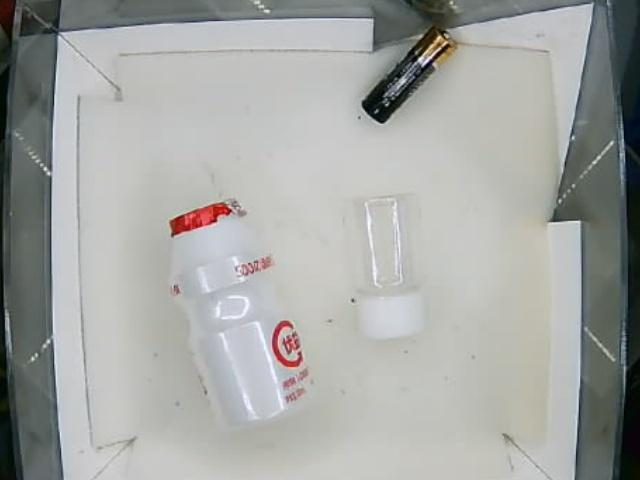Battery: (356, 29, 456, 125)
Bottle: (165, 197, 317, 430), (344, 190, 426, 343)
